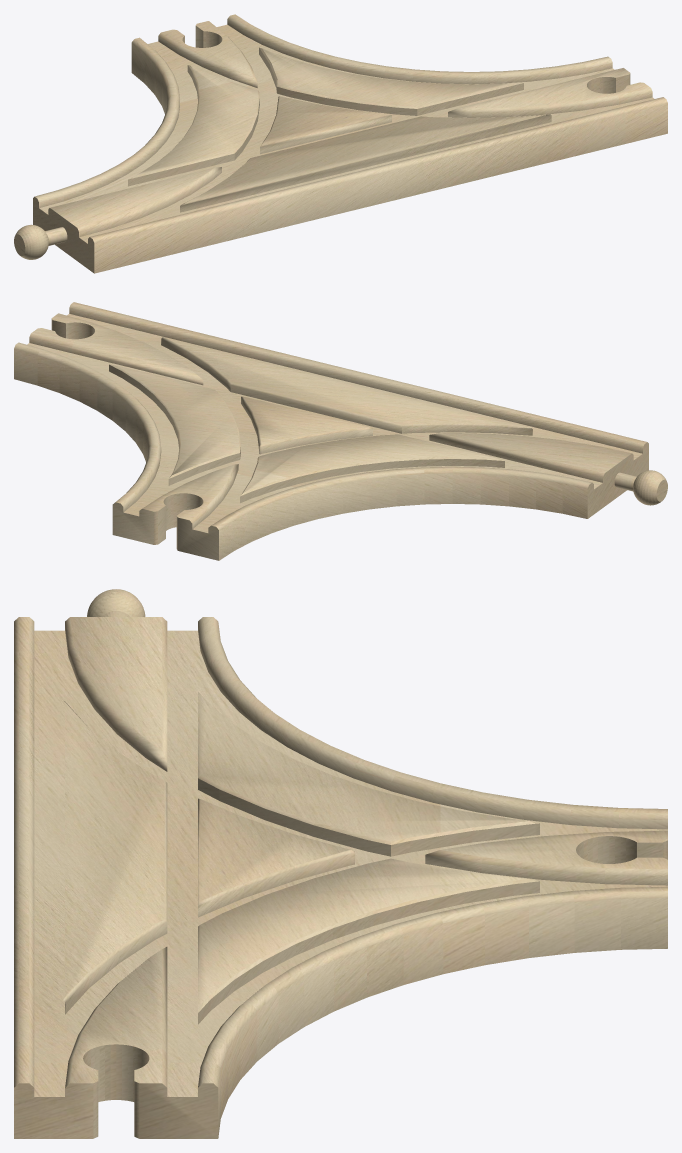
3 views of the same model, one above another, from view 1: azimuth 30°, elevation 25°; view 2: azimuth 150°, elevation 25°; view 3: azimuth 270°, elevation 25° (orthographic). The views are drawn at different scales.
Visible parts, largest first — view 1: SketchUp (×5), _3d_peg; view 2: SketchUp (×5), _3d_peg; view 3: SketchUp (×5), _3d_peg.
Boxes of the visible parts, x1,y1,x2,y2 form: SketchUp (×5): (33, 14, 667, 273); _3d_peg: (14, 224, 67, 259); SketchUp (×5): (14, 302, 648, 560); _3d_peg: (614, 470, 667, 505); SketchUp (×5): (14, 617, 667, 1138); _3d_peg: (87, 589, 145, 616).
Bounding box in the file's own units: 9.16 × 5.04 × 0.4724.
